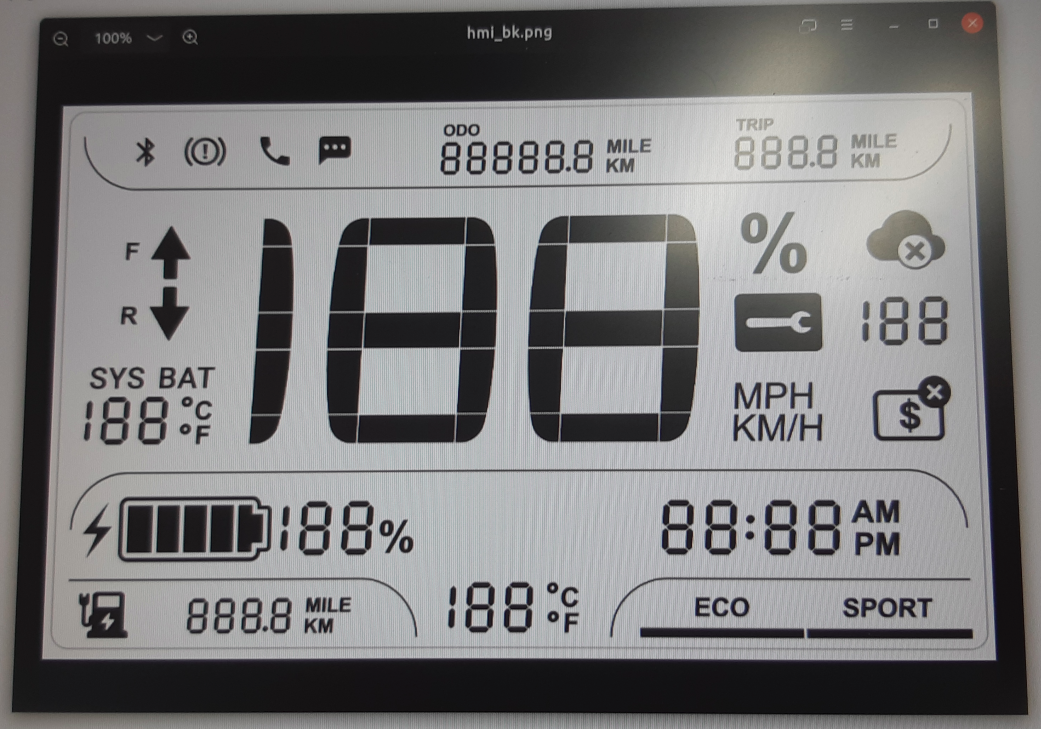bluetooth_on: (131, 133, 161, 171)
braking_on: (182, 133, 229, 170)
calling_on: (256, 133, 293, 168)
connection_lost: (862, 206, 948, 271)
error_code: (730, 290, 827, 354)
low_battery: (74, 585, 133, 641)
sms_on: (315, 133, 354, 167)
vin_id: (870, 373, 954, 443)
